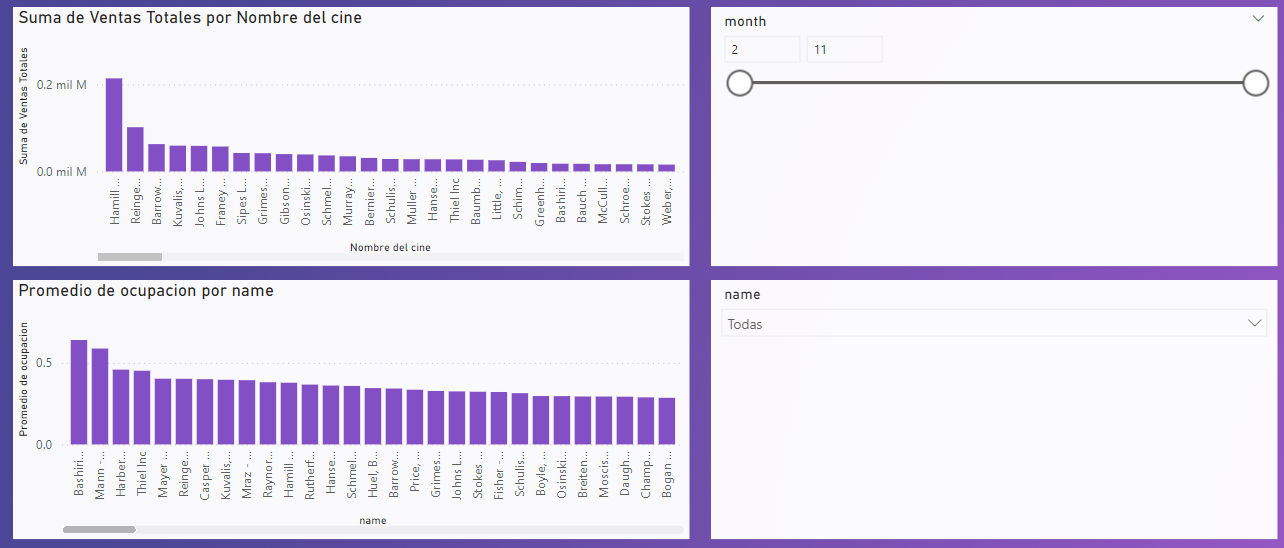

Layout of this report page (visuals, bound fields, positions):
{"tool":"powerbi","page":{"name":"Comparación entre cines","canvas":[1280,720],"ordinal":5},"visuals":[{"type":"columnChart","fields":{"Category":["cinemas.name"],"Y":["tickets.Suma de Ventas Totales"]},"box":[38.9,54.5,657.5,251.9],"z":0},{"type":"columnChart","fields":{"Category":["cinemas.name"],"Y":["tickets.Promedio de ocupacion"]},"box":[38.9,320,657.5,251.9],"z":1},{"type":"slicer","fields":{"Values":["tickets.month"]},"box":[717.8,54.5,551.5,251.9],"z":2},{"type":"slicer","fields":{"Values":["cinemas.name"]},"box":[717.8,320,551.5,251.9],"z":3}]}

Visuals, with their boxes on the page's 1280x720 design canvas (x1, y1, x2, y2). These are canvas units, not pixel positions in the 1284x548 screenshot, which may show the page scaled, cropped or inside an application window:
columnChart - cinemas.name x tickets.Suma de Ventas Totales: bbox=(39, 54, 696, 306)
columnChart - cinemas.name x tickets.Promedio de ocupacion: bbox=(39, 320, 696, 572)
slicer - tickets.month: bbox=(718, 54, 1269, 306)
slicer - cinemas.name: bbox=(718, 320, 1269, 572)
